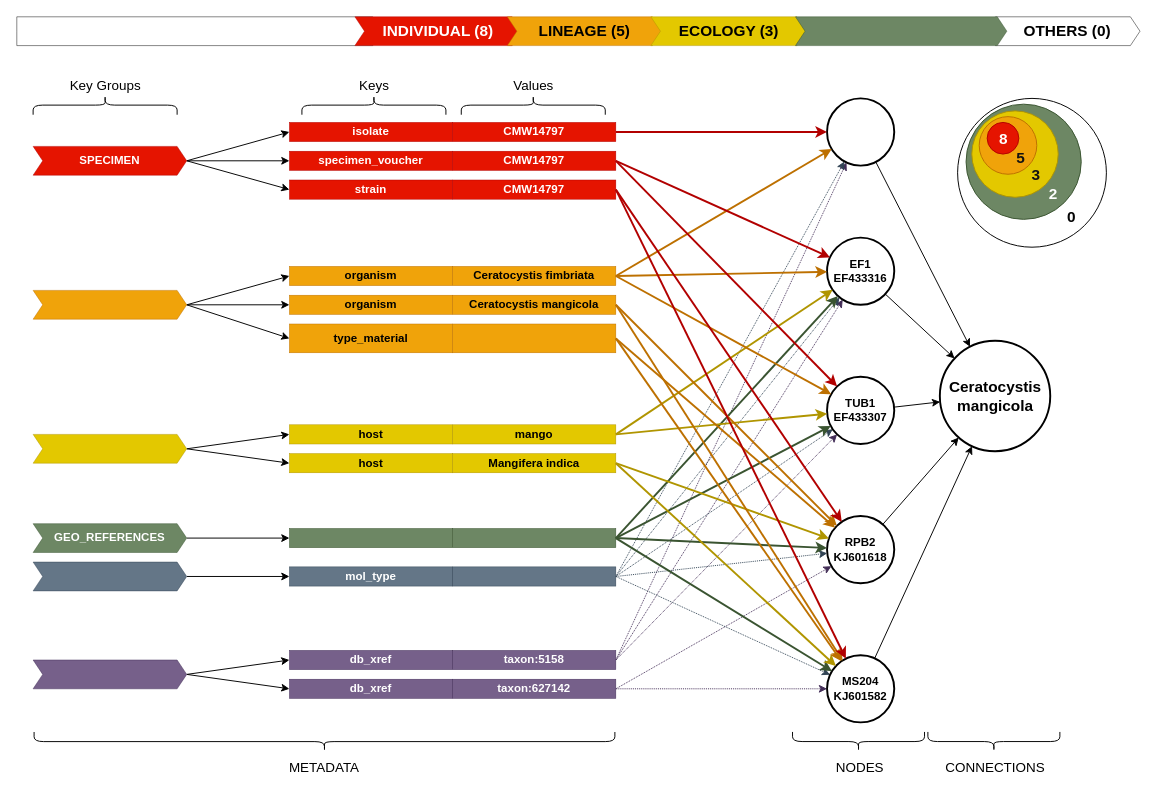
Some shapes in this 1157 by 799 pixel diagram are drawn without their labels. Each missing label, with the centre of its shape:
ASSAY: the point at 109,576
Brazil: the point at 534,537
country: the point at 370,537
EXTERNAL_LINKS: the point at 109,674
genomic DNA: the point at 534,576
GEOLOCATION (2): the point at 901,30
HOST_SUBSTRATE: the point at 109,448
METADATA IMPORTANCE ORDER: the point at 194,30
nuc-ITS AY953382: the point at 860,131
TAXONOMY: the point at 109,304
type material of Ceratocystis mangicola: the point at 534,338
